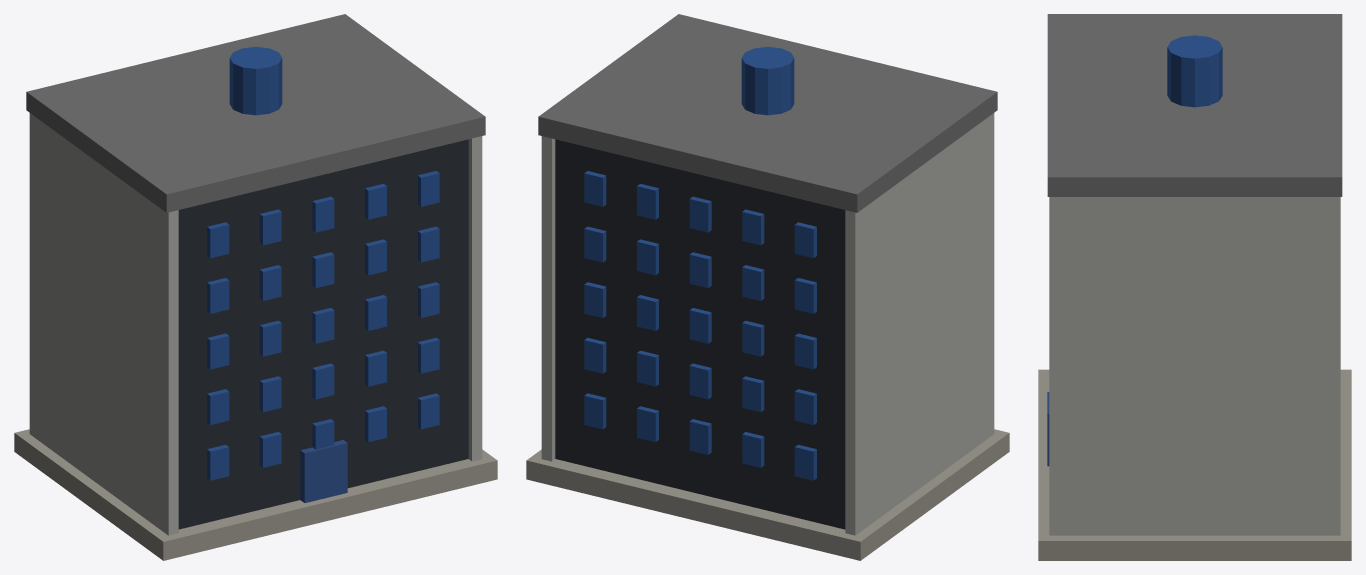
Rendered from bld_residential_a08.glb.
The picture shows the model from 3 angles, left to right: view 1: azimuth 30°, elevation 25°; view 2: azimuth 150°, elevation 25°; view 3: azimuth 270°, elevation 25°; orthographic projection. The views are drawn at different scales.
Parts seen in each view (by area): view 1: body; view 2: body; view 3: body.
Boxes of the visible parts, left/top/right/bottom form: body: left=14, top=14, right=497, bottom=560; body: left=526, top=14, right=1009, bottom=560; body: left=1038, top=14, right=1351, bottom=560.
Size of what is drawn, in the model's own units: 6.6 by 7.7 by 5.1.
